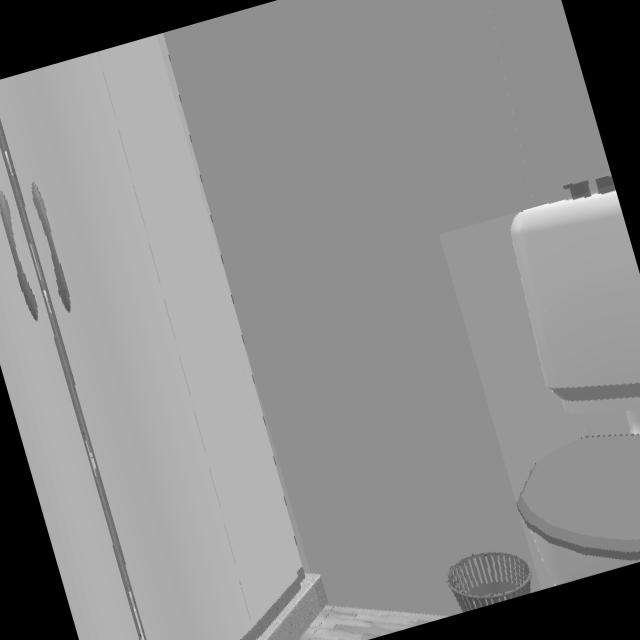shower: (0, 39, 306, 640)
toilet: (510, 191, 640, 585)
